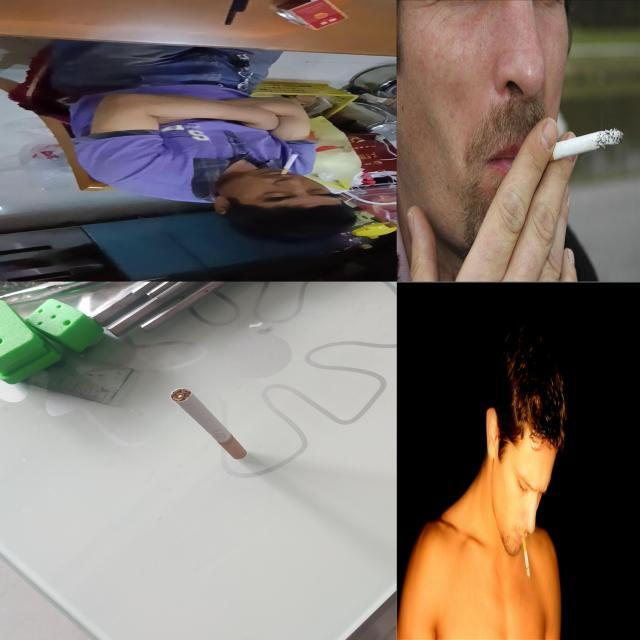smoking: (172, 388, 248, 460), (532, 124, 626, 163), (280, 154, 300, 174), (522, 535, 531, 577)
